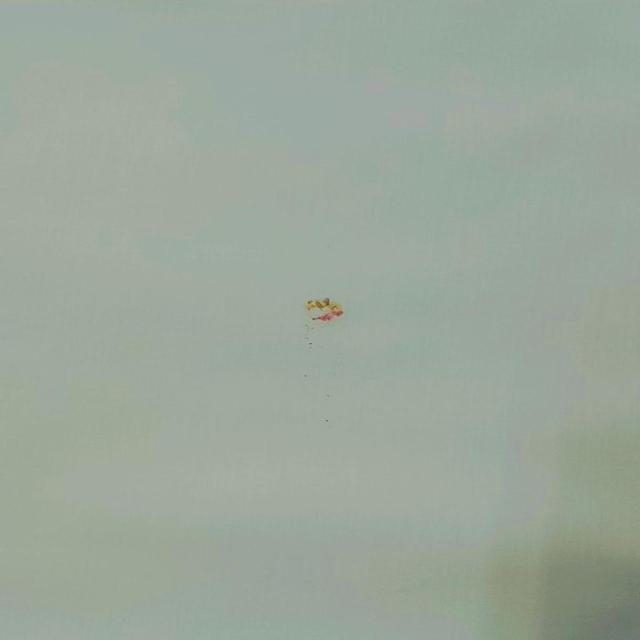stain: (292, 291, 358, 329)
